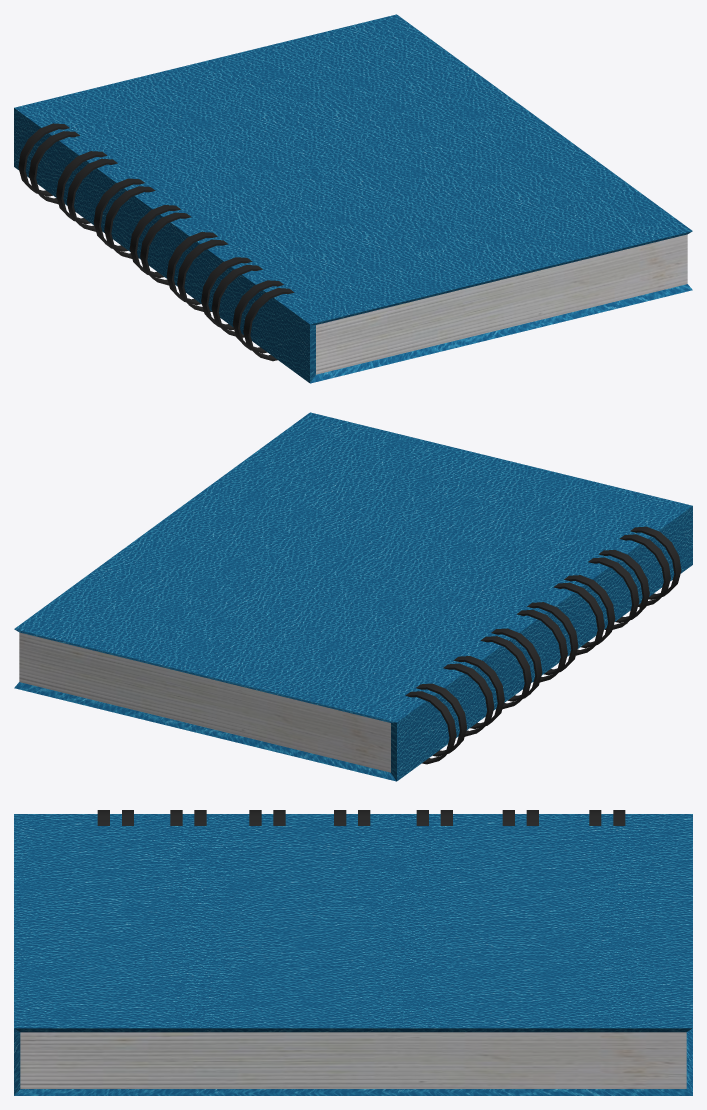
Rendered from Notebook 2.FBX.
The picture shows the model from 3 angles, top to bottom: view 1: azimuth 30°, elevation 25°; view 2: azimuth 150°, elevation 25°; view 3: azimuth 270°, elevation 25°; orthographic projection. The views are drawn at different scales.
Parts seen in each view (by area): view 1: notebook 2; view 2: notebook 2; view 3: notebook 2.
Part boxes in pixels (bbox=[...]): notebook 2: bbox=[14, 14, 692, 383]; notebook 2: bbox=[14, 412, 692, 781]; notebook 2: bbox=[14, 810, 692, 1095].
Bounding box in the file's own units: 11.36 × 1.79 × 14.28.
Materials: 1 (1 with a texture image).
